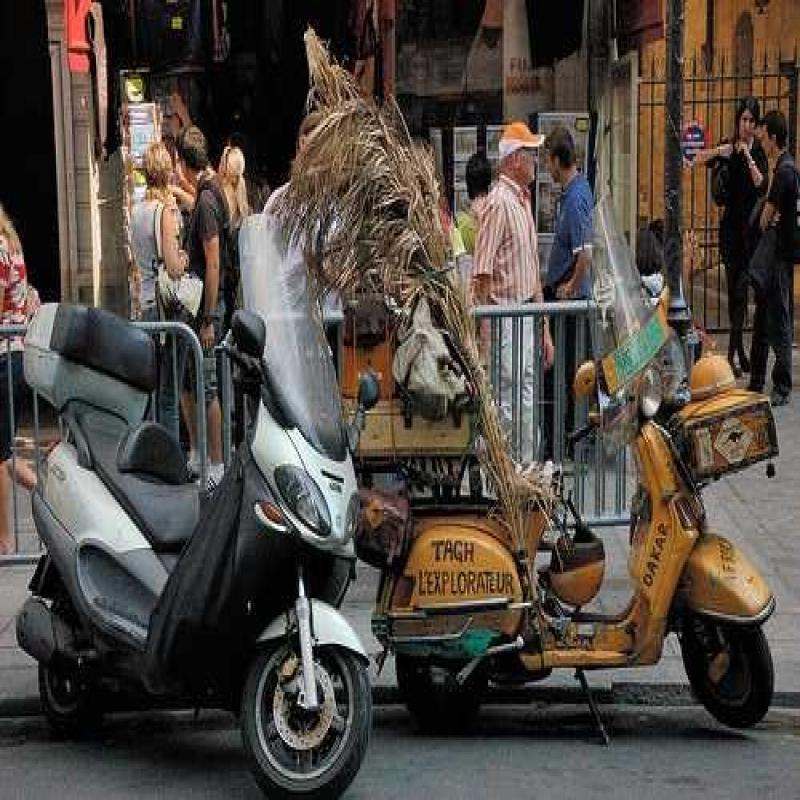bike: (31, 259, 374, 796), (377, 336, 766, 712)
